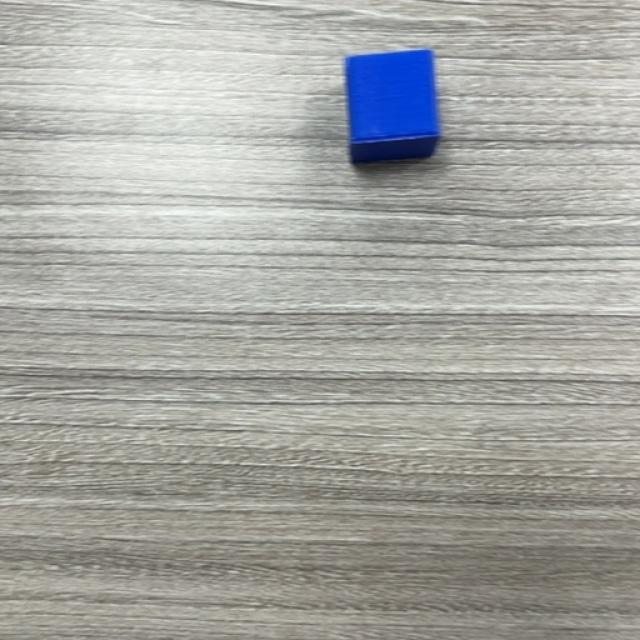Azul: (345, 50, 442, 165)
